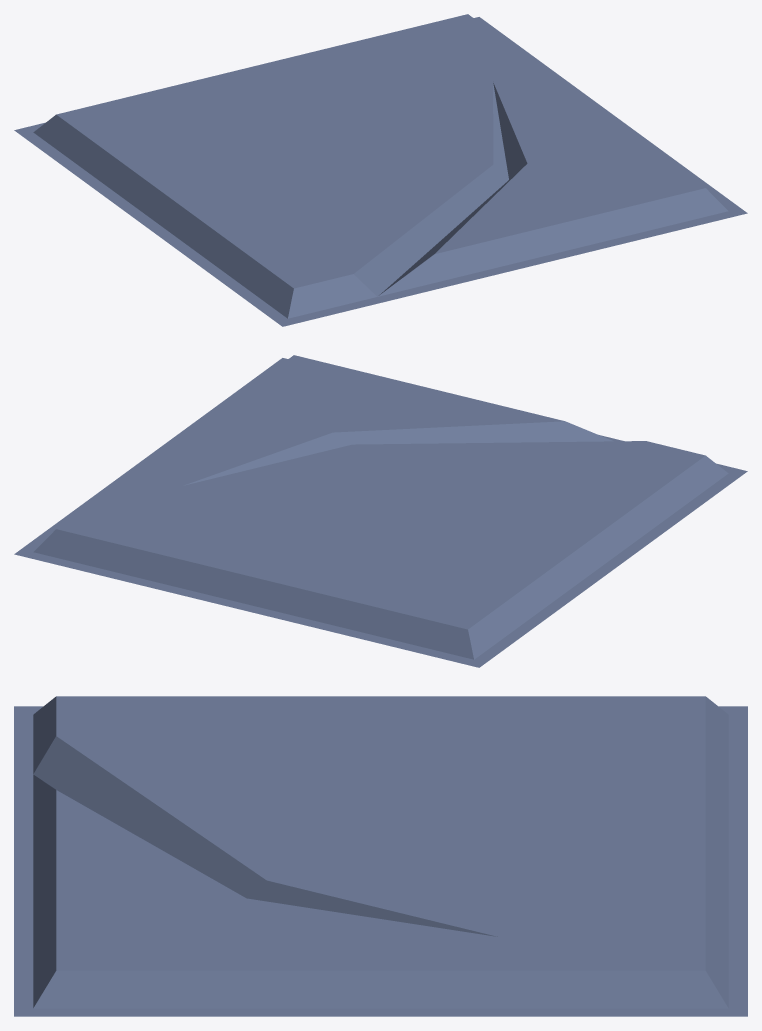
The model's file is piso 2.fbx.
The picture shows the model from 3 angles, top to bottom: view 1: azimuth 30°, elevation 25°; view 2: azimuth 150°, elevation 25°; view 3: azimuth 270°, elevation 25°; orthographic projection. The views are drawn at different scales.
Parts seen in each view (by area): view 1: tile.004; view 2: tile.004; view 3: tile.004.
Part boxes in pixels (x1,y1,x2,y2): tile.004: (14, 14, 747, 326); tile.004: (14, 355, 747, 667); tile.004: (14, 696, 747, 1016).
Bounding box in the file's own units: 105 × 4.53 × 105.
